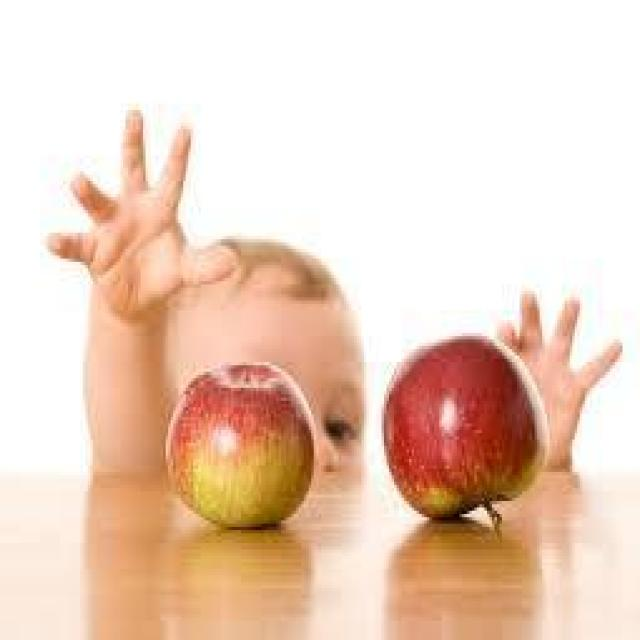maca: (379, 330, 550, 524), (163, 359, 316, 530)
